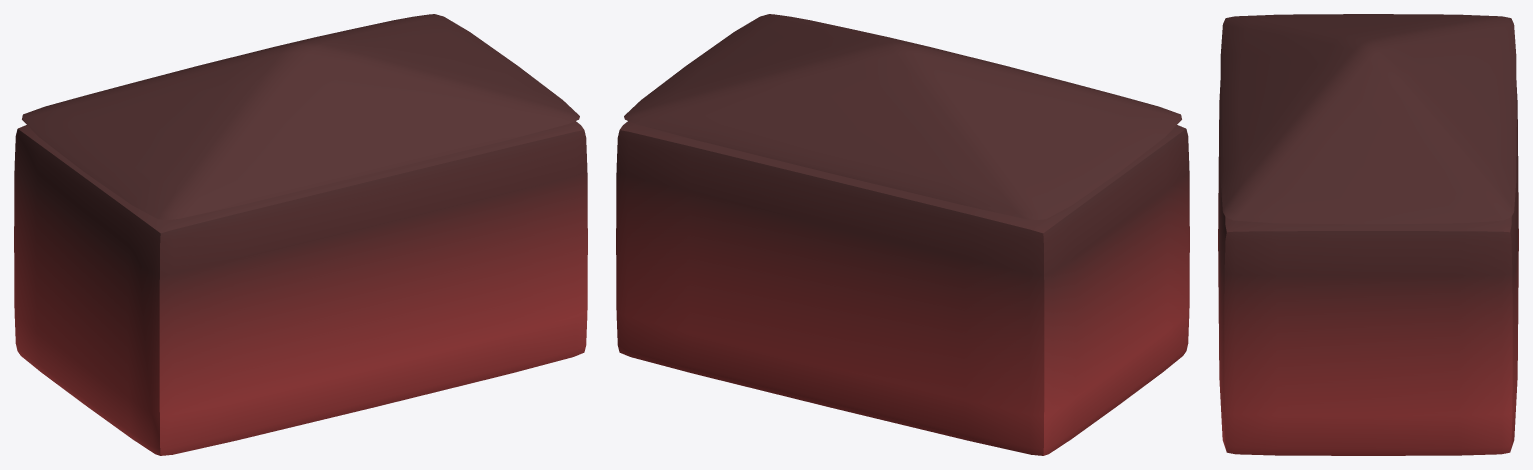
Rendered from hotel.glb.
The picture shows the model from 3 angles, left to right: view 1: azimuth 30°, elevation 25°; view 2: azimuth 150°, elevation 25°; view 3: azimuth 270°, elevation 25°; orthographic projection.
Visible parts, largest first — view 1: Hotel; view 2: Hotel; view 3: Hotel.
Part boxes in pixels (<box>): Hotel: <box>14,14,587,455</box>; Hotel: <box>616,14,1189,455</box>; Hotel: <box>1218,14,1518,455</box>.
Bounding box in the file's own units: 0.4991 × 0.3413 × 0.2991.
